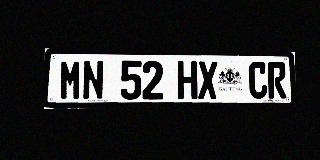2: (143, 61, 163, 100)
5: (121, 60, 142, 100)
C: (248, 62, 268, 99)
H: (177, 61, 197, 99)
M: (59, 60, 82, 100)
N: (82, 60, 104, 100)
R: (268, 62, 286, 99)
X: (198, 61, 218, 99)
